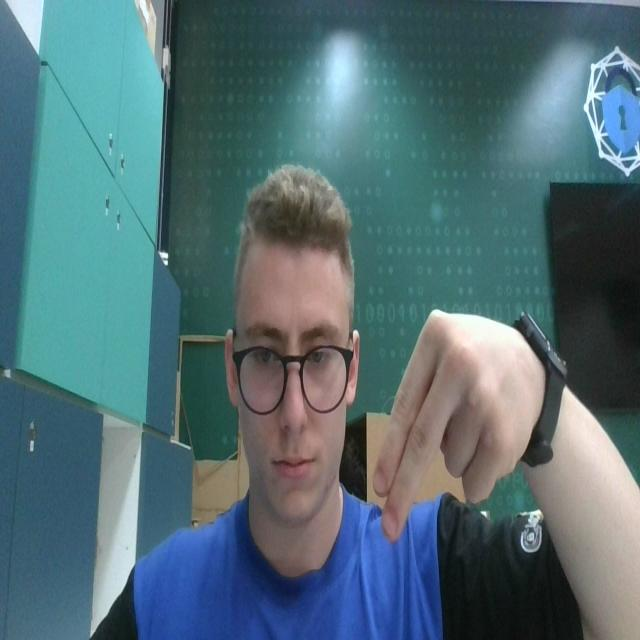N: (368, 300, 534, 548)
